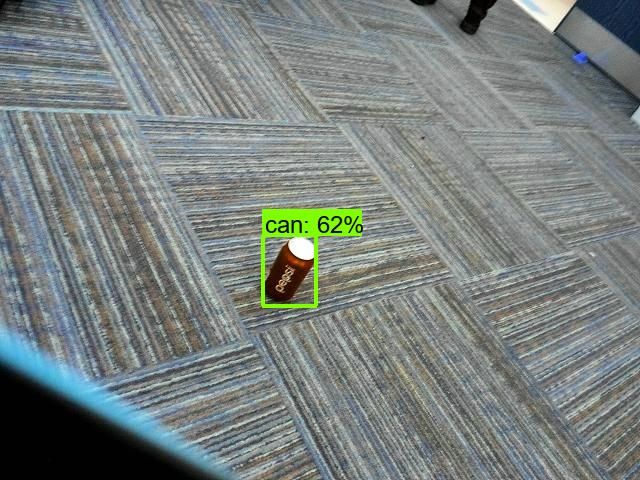can: (262, 229, 321, 310)
